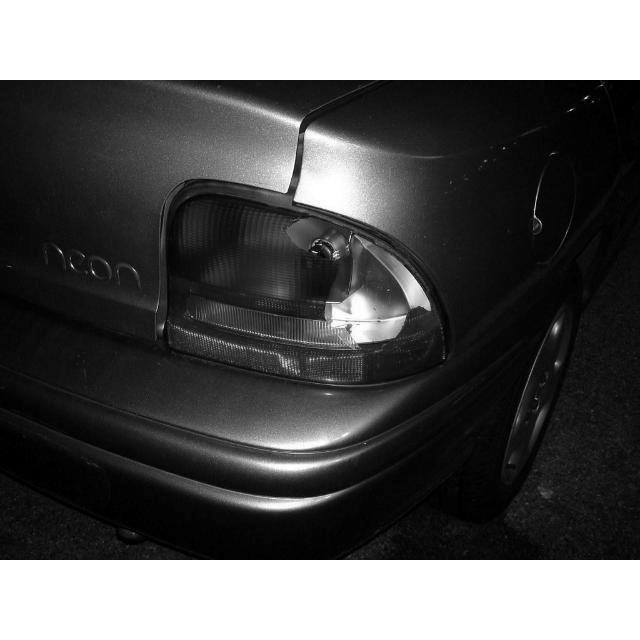Taillight-Damage: (135, 127, 450, 389)
